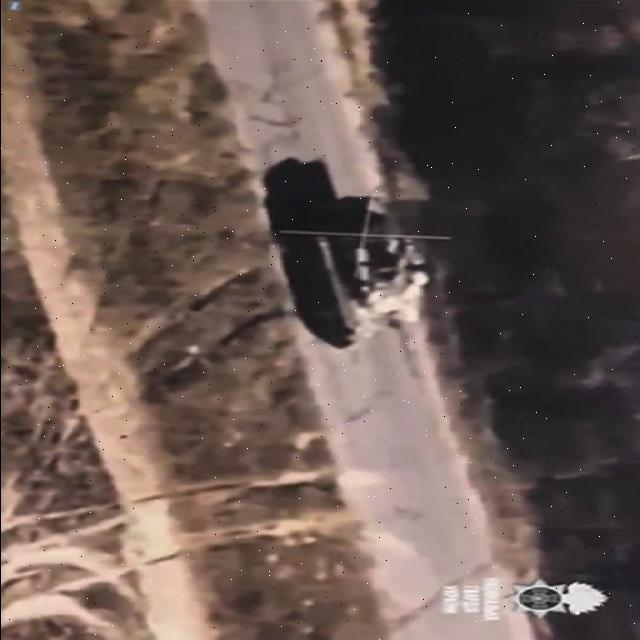TANK: (269, 196, 451, 382)
